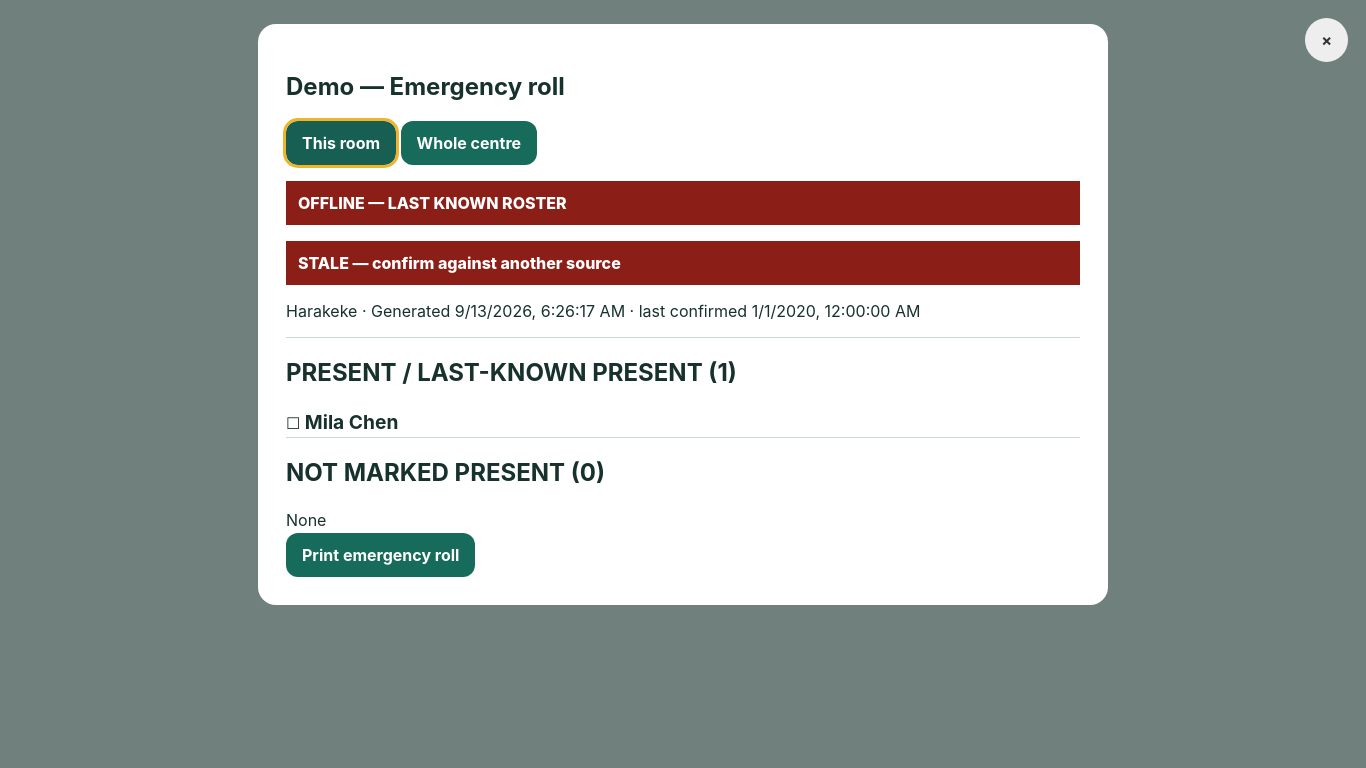
Scenario: 0.2.2 settings, attendance and roll presentation › applies shared Emergency Roll settings and preserves Classroom scope and warnings
Check: the text "Theo Banks" is not shown
Click the button "Whole centre". click: x=469, y=143
box: [401,121,537,165]
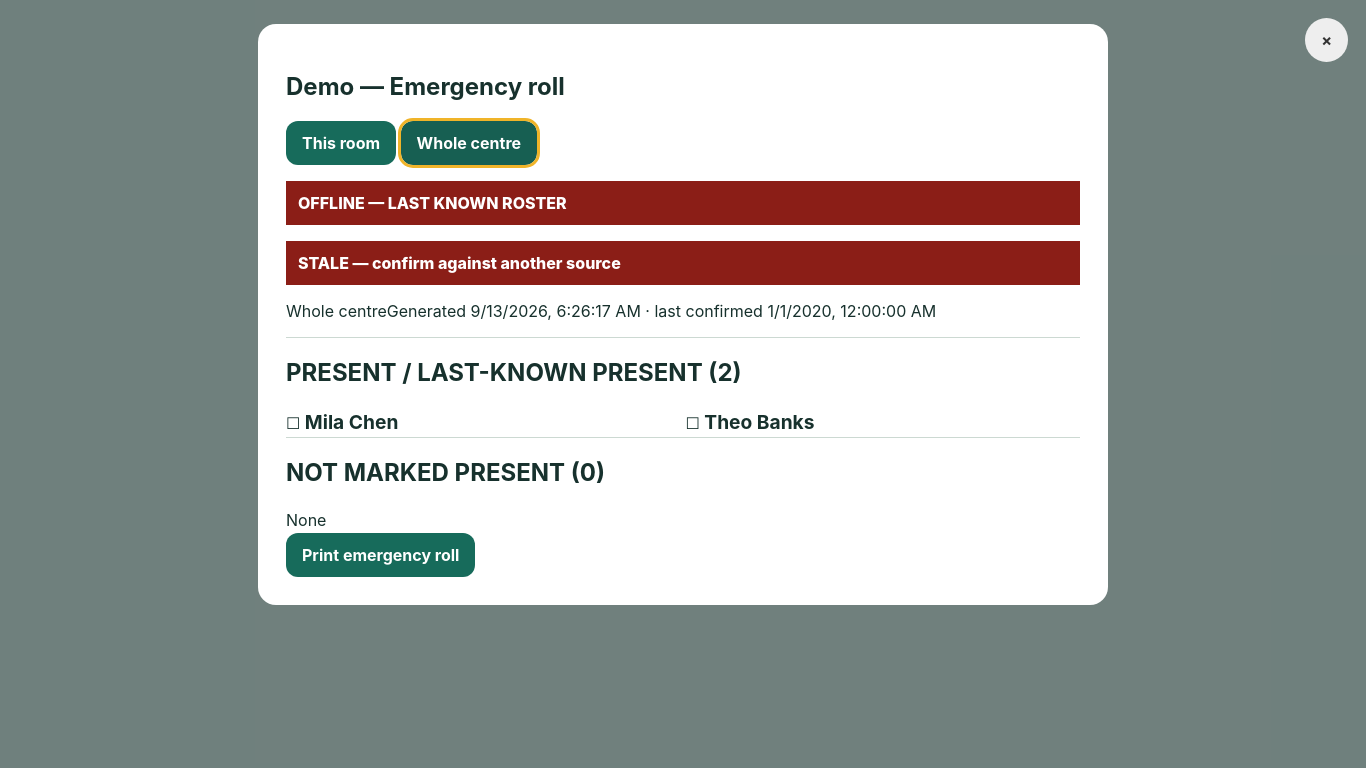
Check: the text "Theo Banks" is shown, box [704,410,814,434]
Check: the text "Harakeke" is gone
